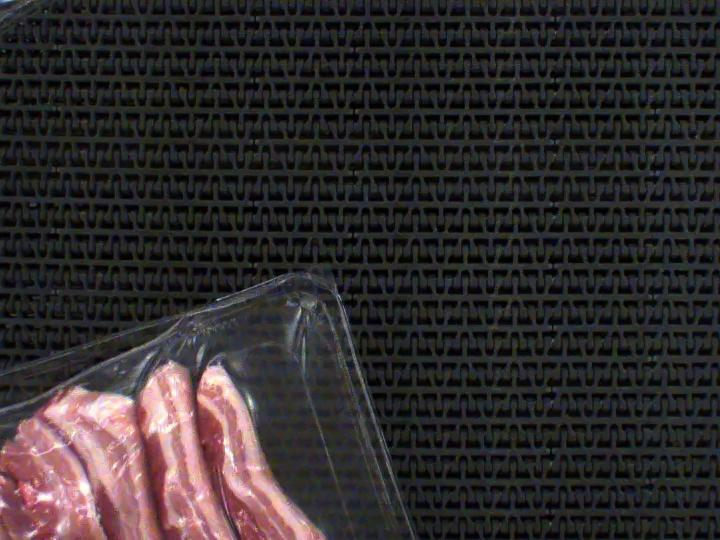unsealed: (0, 300, 407, 540)
